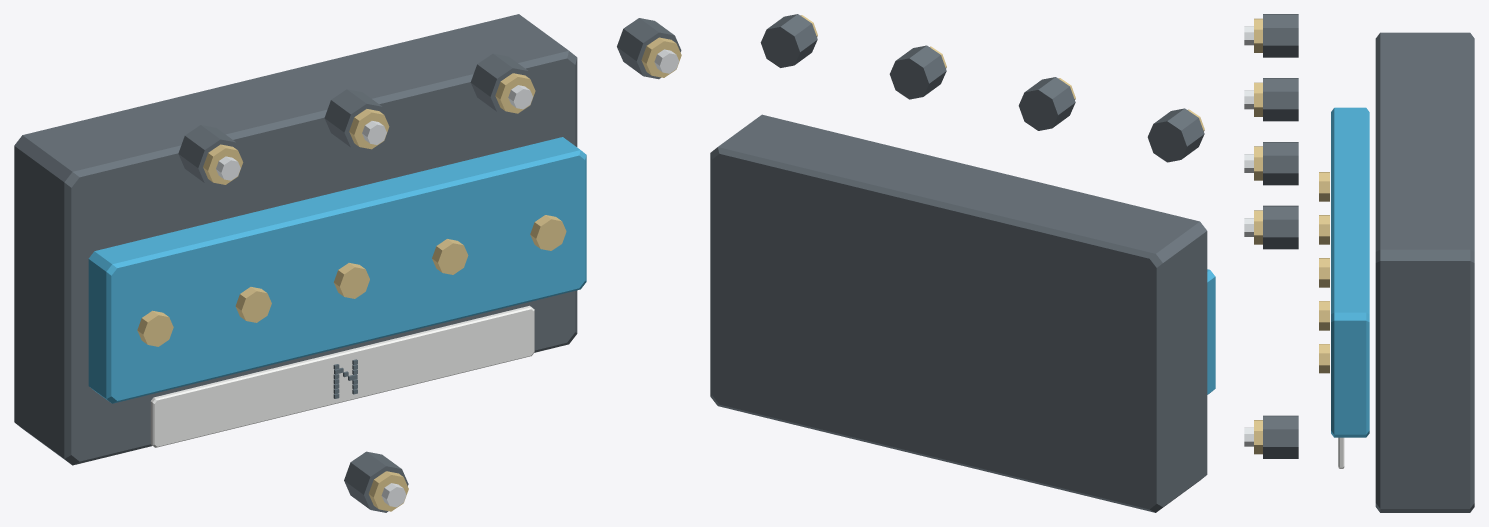
Rendered from neutralBar.glb.
3 views of the same model, side by side, from view 1: azimuth 30°, elevation 25°; view 2: azimuth 150°, elevation 25°; view 3: azimuth 270°, elevation 25° (orthographic). The views are drawn at different scales.
Parts seen in each view (by area): view 1: neutralBar-board; view 2: neutralBar-board; view 3: neutralBar-board.
Boxes of the visible parts, x1,y1,x2,y2 form: neutralBar-board: (14,14,681,512); neutralBar-board: (710,14,1215,512); neutralBar-board: (1244,14,1474,512).
Bounding box in the file's own units: 2.36 × 1.69 × 0.9529.
